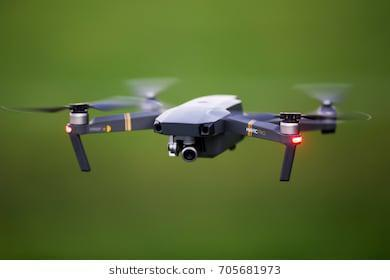drone: (0, 64, 387, 192)
